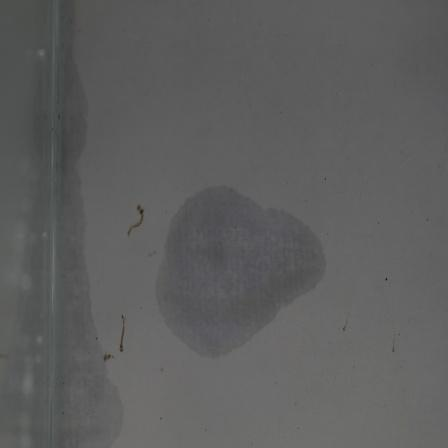Jentik-Nyamuk: (99, 312, 129, 369), (123, 198, 148, 244)
